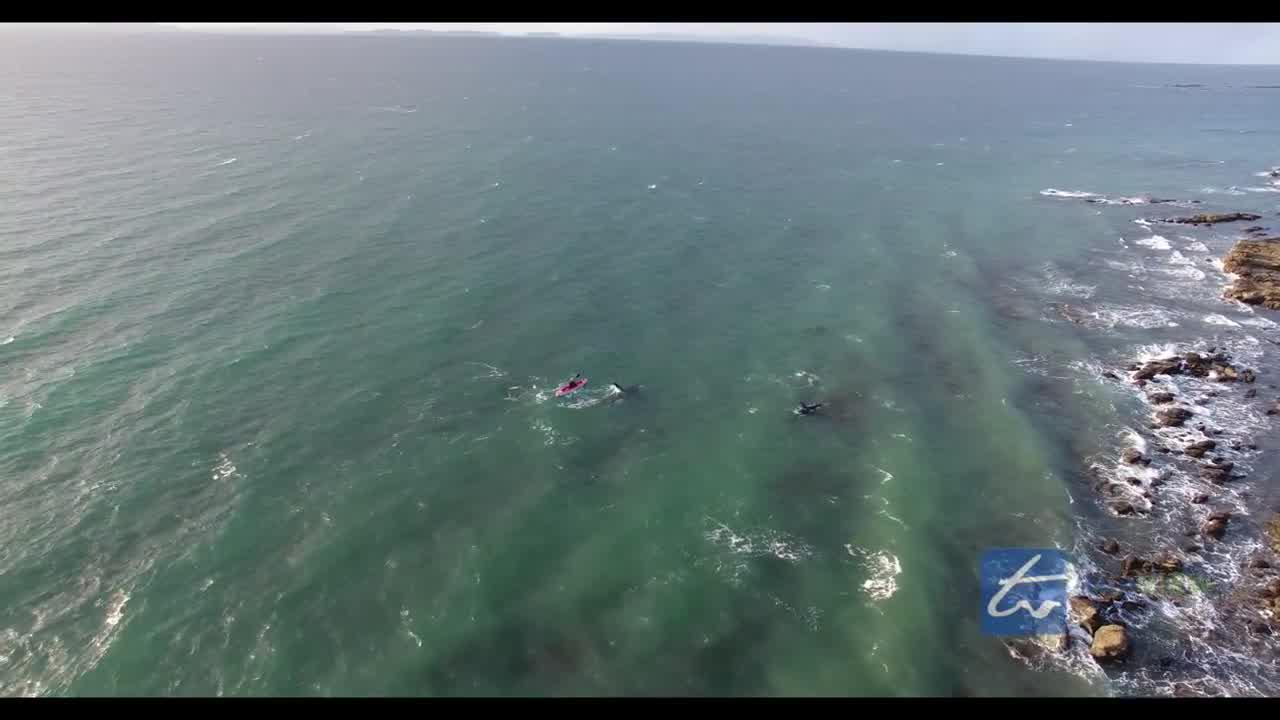swimmer: (605, 369, 627, 397), (562, 370, 584, 395)
